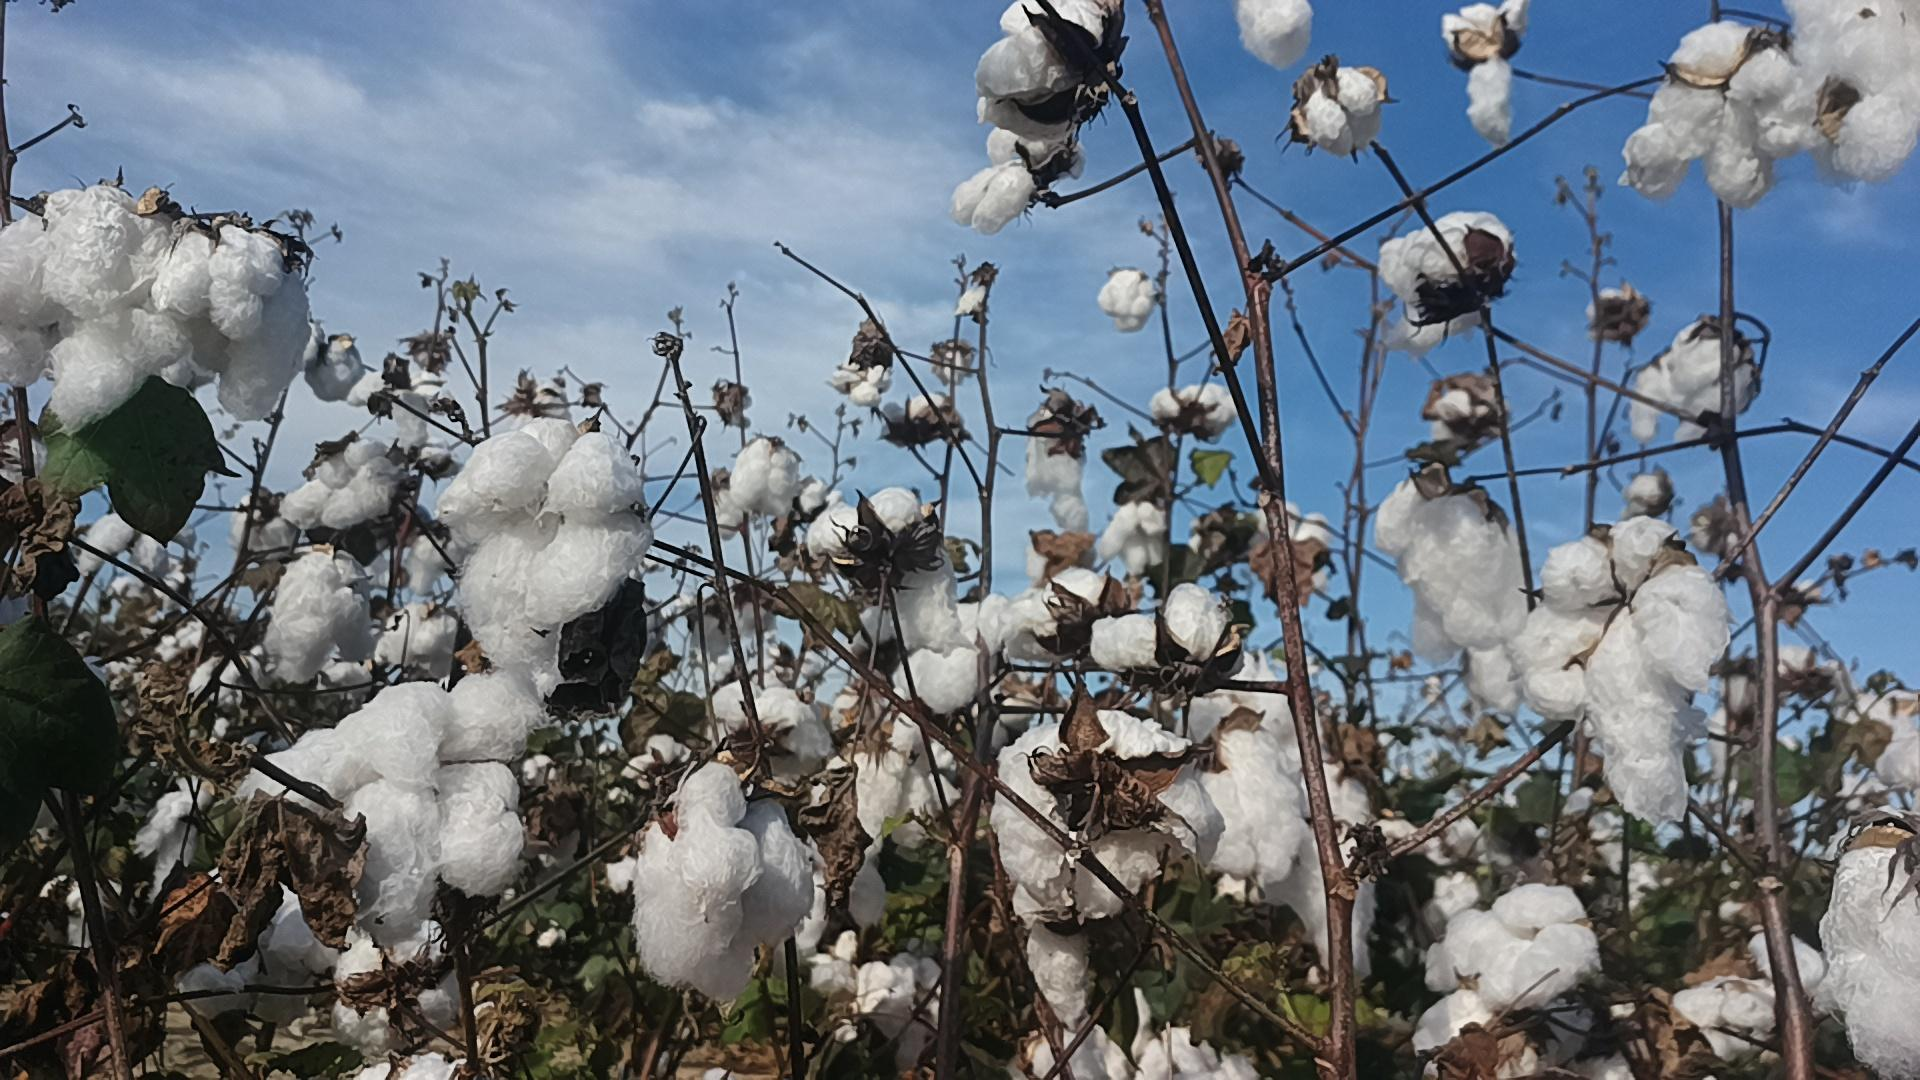cotton_ready: (251, 674, 538, 944), (1518, 516, 1730, 831), (442, 429, 647, 699), (992, 716, 1225, 920), (630, 758, 819, 1010), (0, 186, 186, 433), (1218, 708, 1364, 978), (1378, 476, 1518, 709), (1618, 24, 1789, 203), (158, 225, 310, 421), (1755, 0, 1920, 175), (811, 488, 961, 661), (1821, 845, 1920, 1080), (178, 881, 328, 1031), (1379, 206, 1518, 345), (1018, 884, 1150, 1027), (1445, 884, 1596, 1005), (976, 0, 1110, 131), (332, 926, 460, 1055), (1627, 320, 1760, 443), (853, 709, 957, 851), (268, 550, 376, 683), (1092, 585, 1241, 680), (894, 596, 1013, 713), (953, 128, 1087, 225), (1437, 0, 1528, 138), (1414, 988, 1538, 1080), (1014, 564, 1130, 659), (705, 683, 828, 771), (286, 443, 406, 531), (1676, 985, 1778, 1080), (1298, 69, 1389, 153), (1134, 1026, 1261, 1080), (1021, 1026, 1130, 1080), (1238, 0, 1308, 69)
